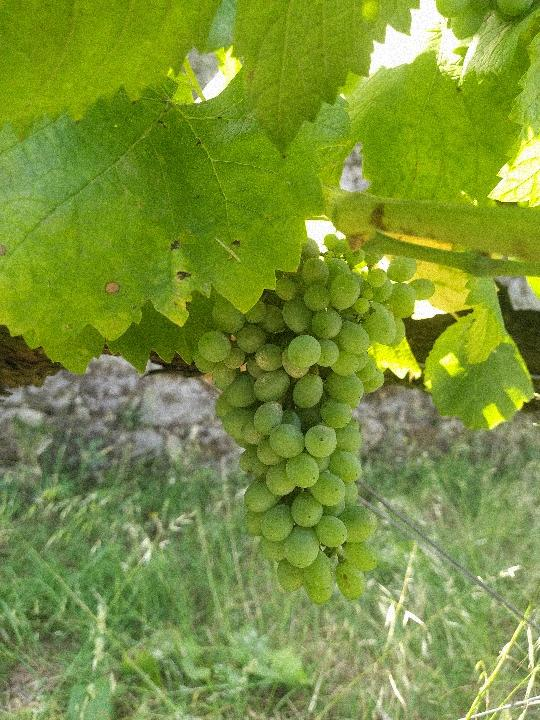grape: (193, 232, 442, 611)
